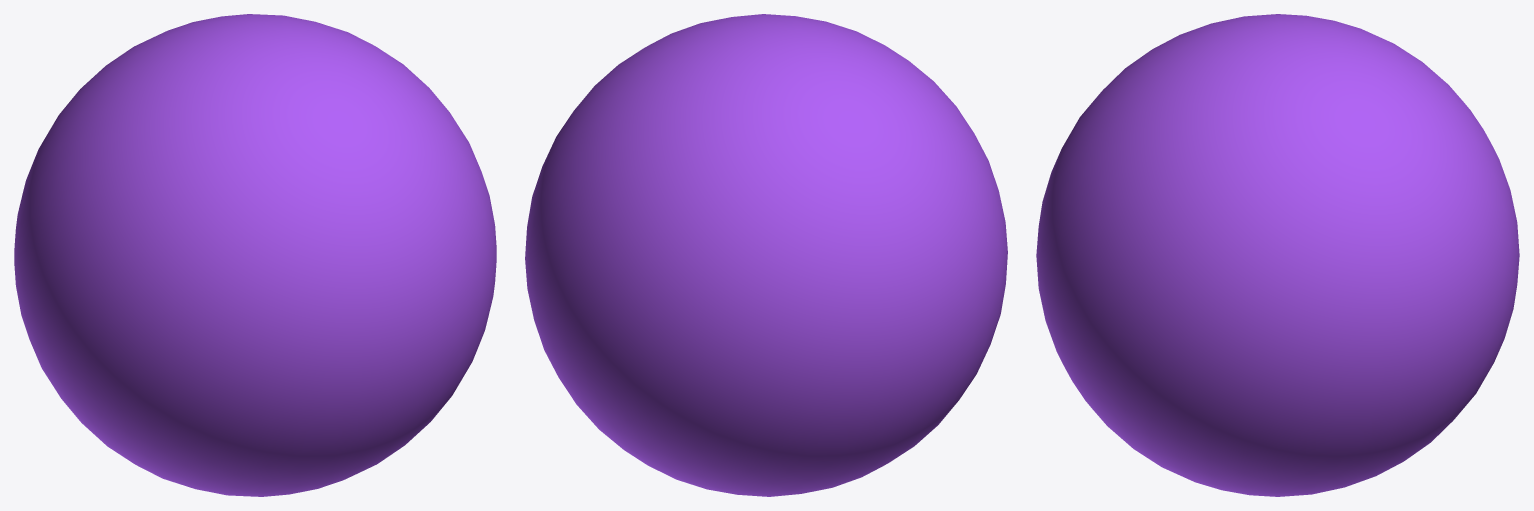
The model's file is sodium.obj.
3 views of the same model, side by side, from view 1: azimuth 30°, elevation 25°; view 2: azimuth 150°, elevation 25°; view 3: azimuth 270°, elevation 25° (orthographic).
Parts seen in each view (by area): view 1: Na1_Atom; view 2: Na1_Atom; view 3: Na1_Atom.
Boxes of the visible parts, <box> form: Na1_Atom: <box>14,14,496,496</box>; Na1_Atom: <box>525,14,1007,496</box>; Na1_Atom: <box>1036,14,1519,496</box>.
Bounding box in the file's own units: 1.04 × 1.04 × 1.04.
